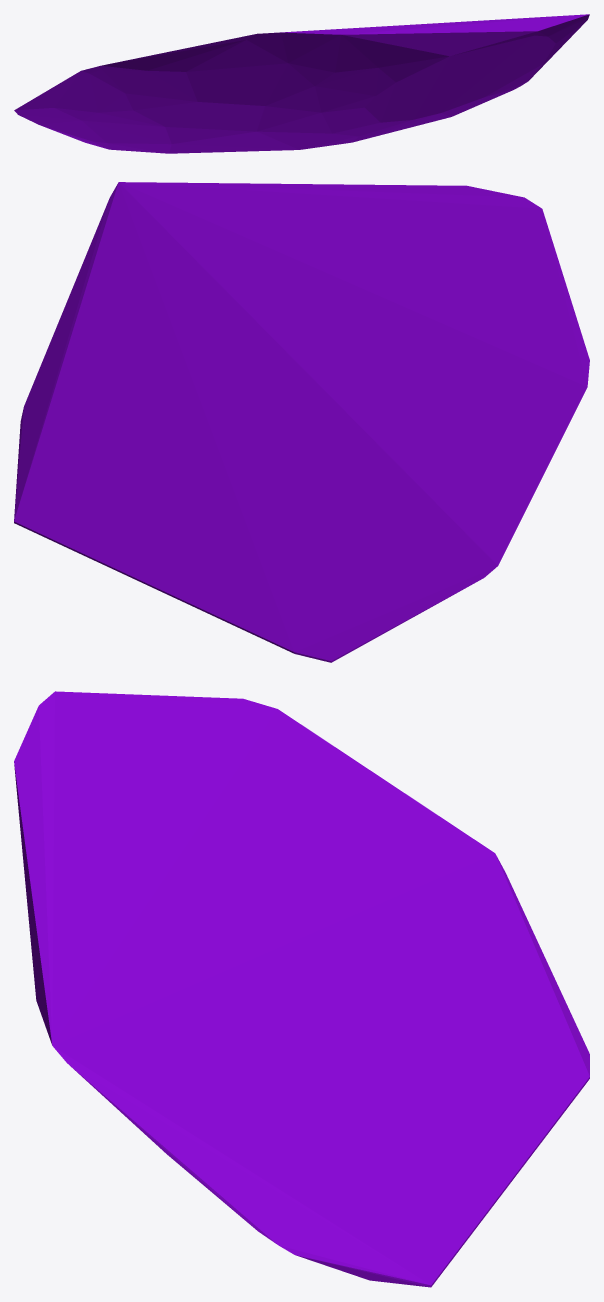
Rendered from convex_piece_014.obj.
3 views of the same model, one above another, from view 1: azimuth 30°, elevation 25°; view 2: azimuth 150°, elevation 25°; view 3: azimuth 270°, elevation 25° (orthographic). The views are drawn at different scales.
Size of the model in its own units: 0.1066 by 0.0535 by 0.0758.
